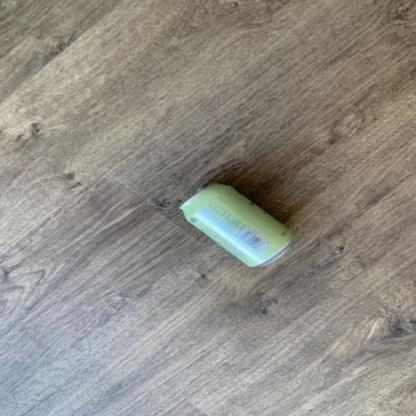trash: (169, 178, 297, 268)
